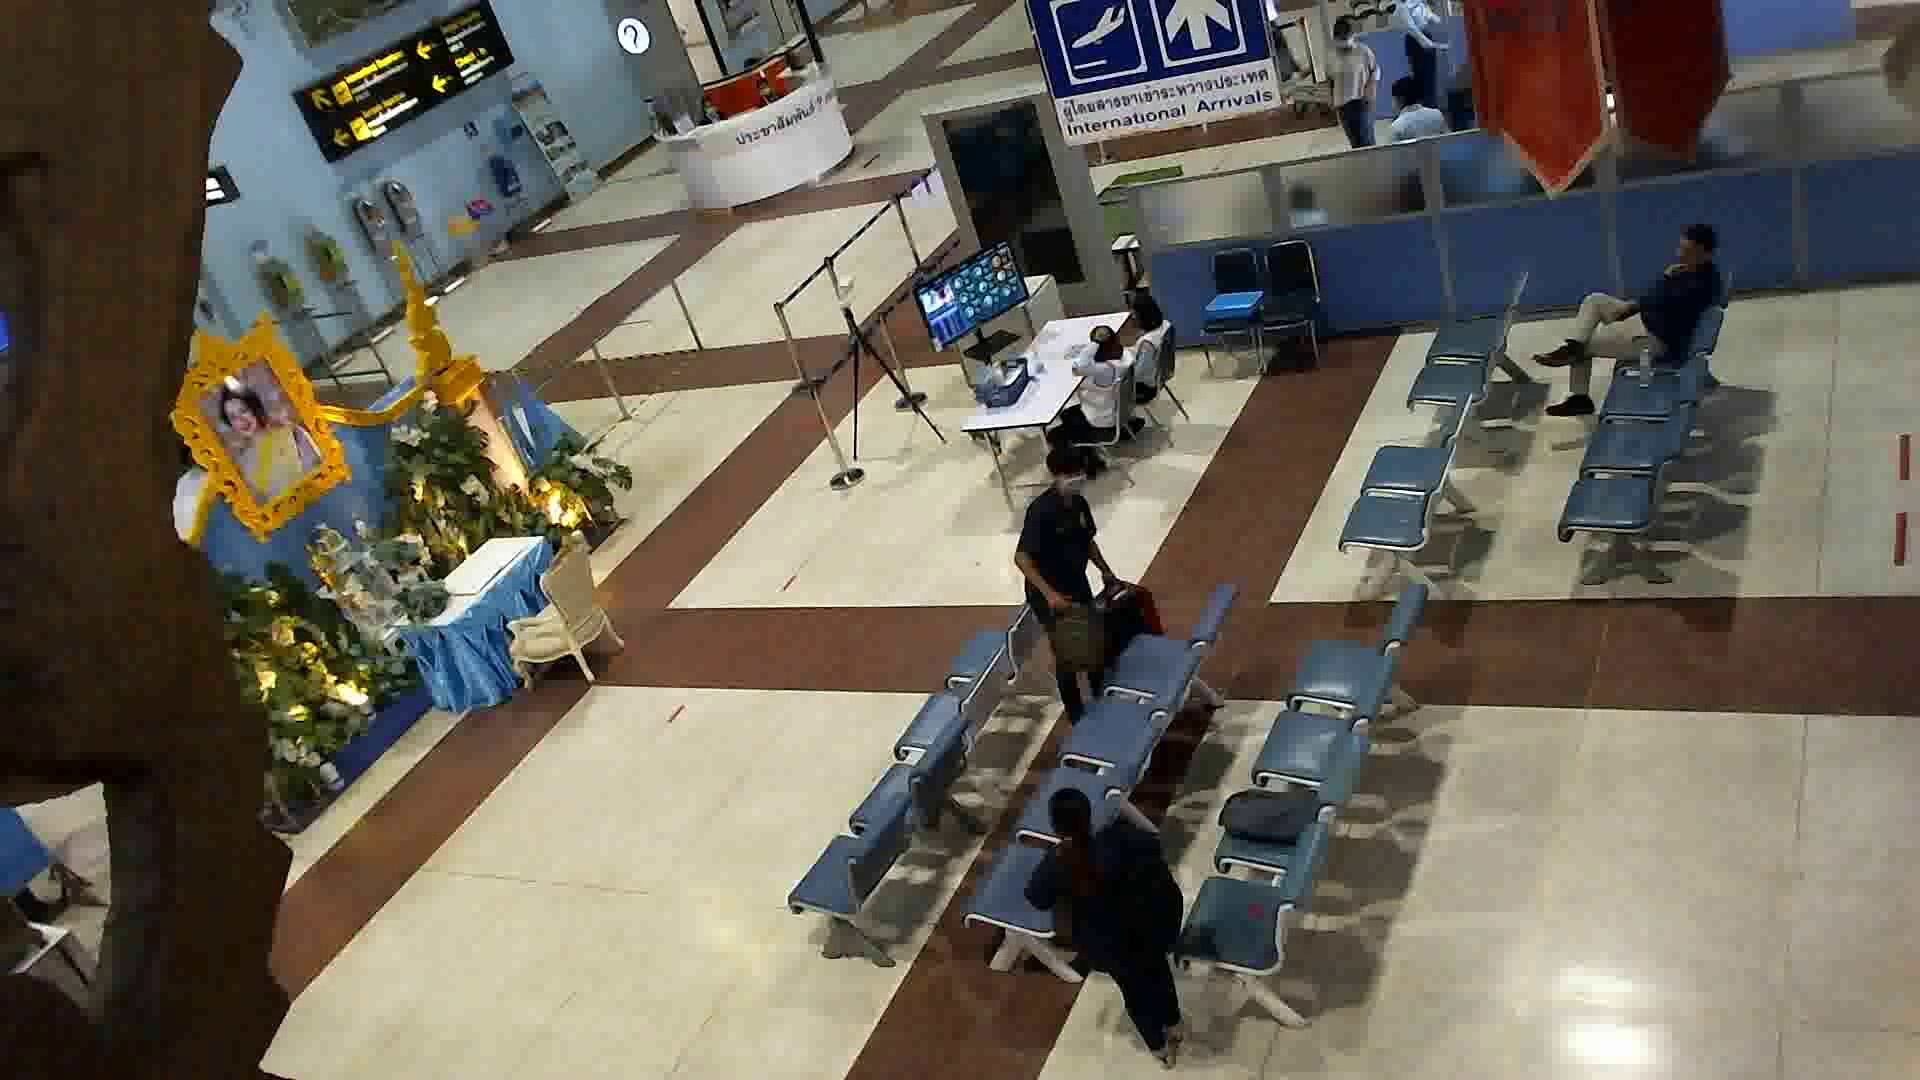backpack: (1214, 772, 1333, 859), (1043, 590, 1112, 695)
luggage: (1089, 574, 1172, 684)
people: (1026, 778, 1203, 1066), (1541, 195, 1729, 438), (1004, 428, 1129, 740), (1043, 326, 1145, 472), (1112, 272, 1197, 418)
